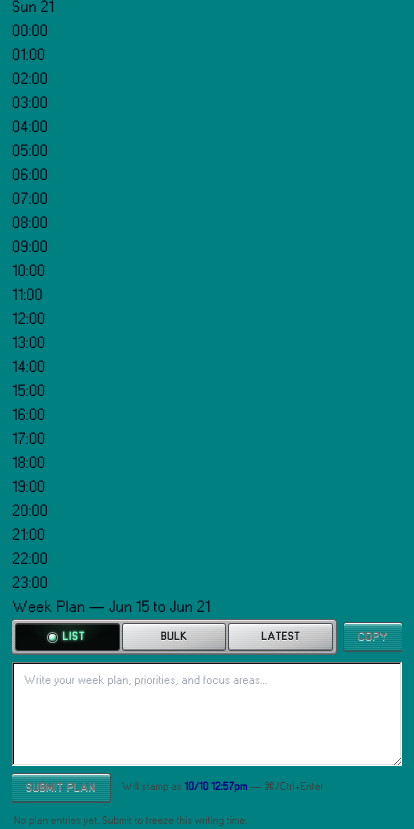
Test: WeekView › saves week plan text as a stamped entry on submit
(page scrolled)
Type "Ship feature" into the text box with placeholder "Write your week plan, priorities, and focus areas...".
click(207, 714); type("Ship feature")  # box [12, 662, 402, 766]
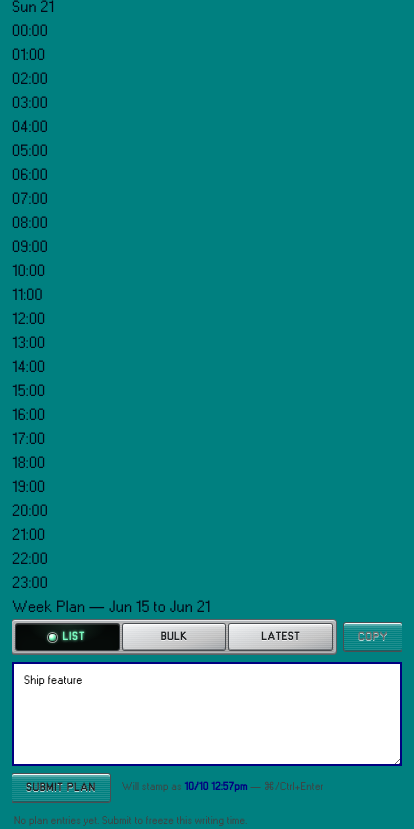
Click the button "Submit plan".
click(61, 788)  # box [12, 774, 110, 802]
(page scrolled)
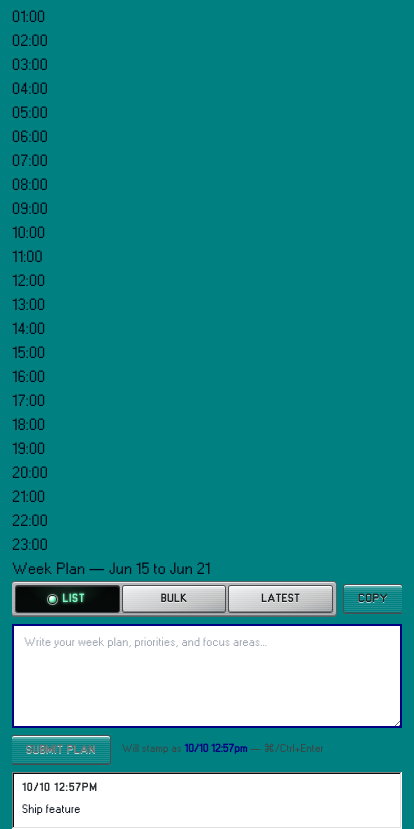
Now the text "Ship feature" is shown, box [22, 804, 81, 814]
